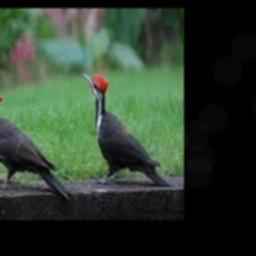Woodpecker: (81, 72, 170, 186), (0, 88, 72, 200)
